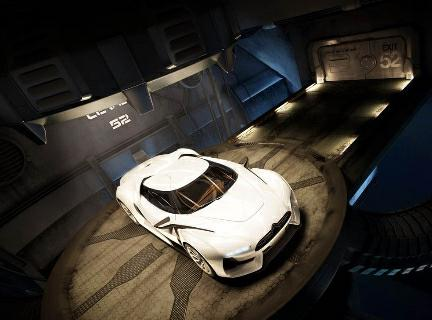雪铁龙-GT: (104, 145, 304, 287)
